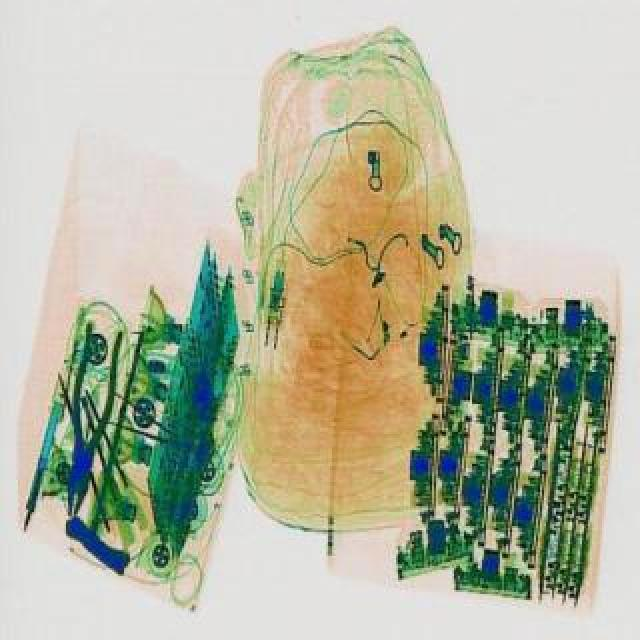wrench: (48, 318, 124, 518)
